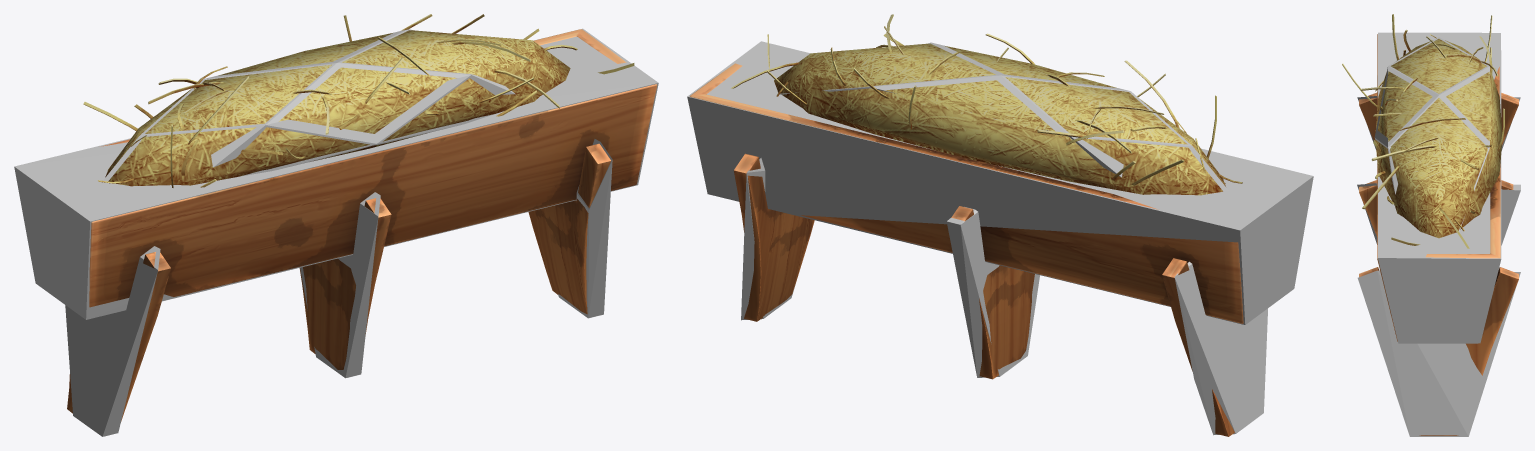
The model's file is SM_Feeder03.fbx.
The picture shows the model from 3 angles, left to right: view 1: azimuth 30°, elevation 25°; view 2: azimuth 150°, elevation 25°; view 3: azimuth 270°, elevation 25°; orthographic projection. The views are drawn at different scales.
Visible parts, largest first — view 1: SM_Feeder03, SM_Feeder03_ConvexHulls; view 2: SM_Feeder03, SM_Feeder03_ConvexHulls; view 3: SM_Feeder03_ConvexHulls, SM_Feeder03.
Boxes of the visible parts, x1,y1,x2,y2 form: SM_Feeder03: [67, 14, 657, 421]; SM_Feeder03_ConvexHulls: [14, 28, 658, 436]; SM_Feeder03: [690, 14, 1243, 436]; SM_Feeder03_ConvexHulls: [687, 41, 1313, 435]; SM_Feeder03_ConvexHulls: [1357, 32, 1520, 436]; SM_Feeder03: [1342, 14, 1518, 435].
Bounding box in the file's own units: 201 × 67.3 × 110.
Materials: 2 (1 with a texture image).
